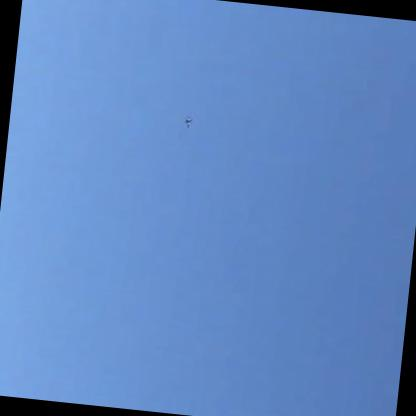plane: (181, 116, 191, 129)
